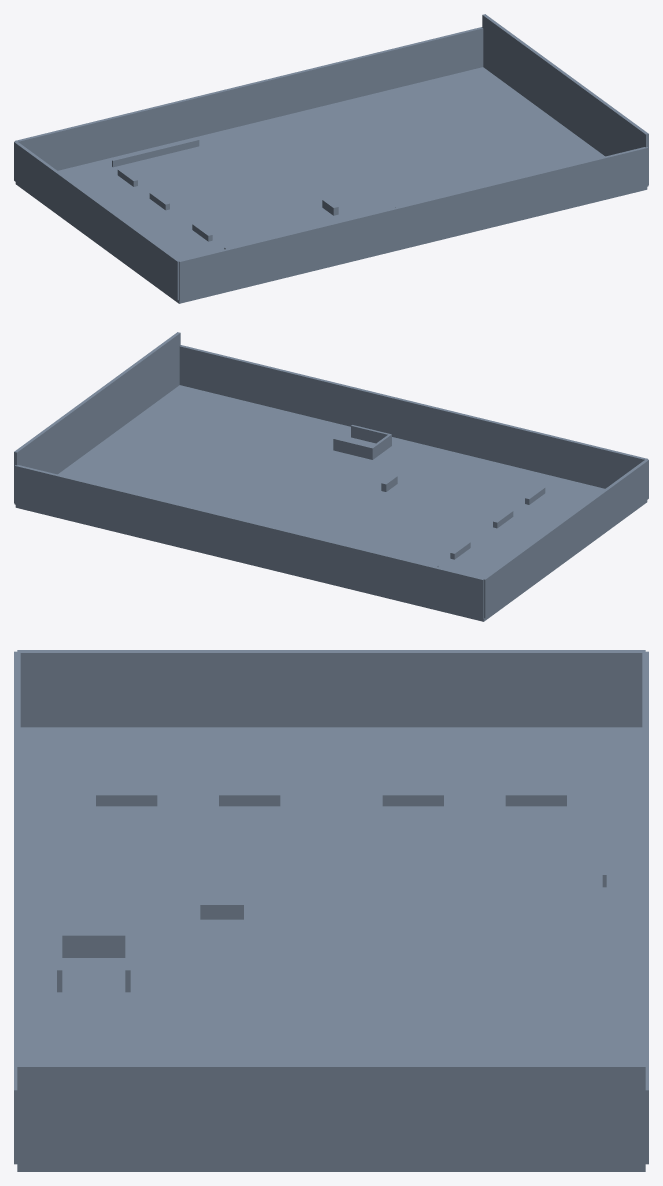
Rendered from range_collision.glb.
3 renders of one model, top to bottom at view 1: azimuth 30°, elevation 25°; view 2: azimuth 150°, elevation 25°; view 3: azimuth 270°, elevation 25°, orthographic. The views are drawn at different scales.
Parts seen in each view (by area): view 1: COL_floor_range, COL_wall_south, COL_wall_north, COL_wall_east, COL_wall_west, COL_yard_rail; view 2: COL_floor_range, COL_wall_north, COL_wall_south, COL_wall_east, COL_wall_west, COL_pit_north, COL_pit_south; view 3: COL_floor_range, COL_wall_east, COL_wall_west, COL_wall_north, COL_wall_south, COL_pit_front, COL_bench_0, COL_bench_1, COL_bench_2, COL_bench_3, COL_peek_cover.
Part boxes in pixels (<box>): COL_floor_range: <box>15,67,647,303</box>; COL_wall_south: <box>179,147,648,300</box>; COL_wall_north: <box>14,27,483,170</box>; COL_wall_east: <box>482,14,648,185</box>; COL_wall_west: <box>14,141,179,300</box>; COL_yard_rail: <box>112,139,199,167</box>; COL_floor_range: <box>15,385,647,621</box>; COL_wall_north: <box>14,465,484,618</box>; COL_wall_south: <box>179,345,648,488</box>; COL_wall_east: <box>14,332,180,503</box>; COL_wall_west: <box>483,459,648,618</box>; COL_pit_north: <box>333,438,373,459</box>; COL_pit_south: <box>351,425,391,445</box>; COL_floor_range: <box>17,727,645,1171</box>; COL_wall_east: <box>17,1064,645,1165</box>; COL_wall_west: <box>17,650,645,727</box>; COL_wall_north: <box>642,651,648,1164</box>; COL_wall_south: <box>14,651,20,1164</box>; COL_pit_front: <box>59,933,125,957</box>; COL_bench_0: <box>505,791,566,806</box>; COL_bench_1: <box>382,791,443,806</box>; COL_bench_2: <box>219,791,280,806</box>; COL_bench_3: <box>96,791,157,806</box>; COL_peek_cover: <box>200,900,243,919</box>.
Bounding box in the file's own units: 76.5 × 8.6 × 46.5.
